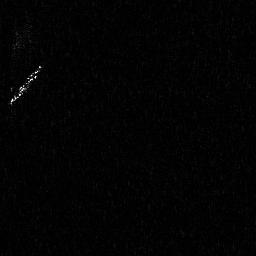ship: (8, 62, 43, 106)
